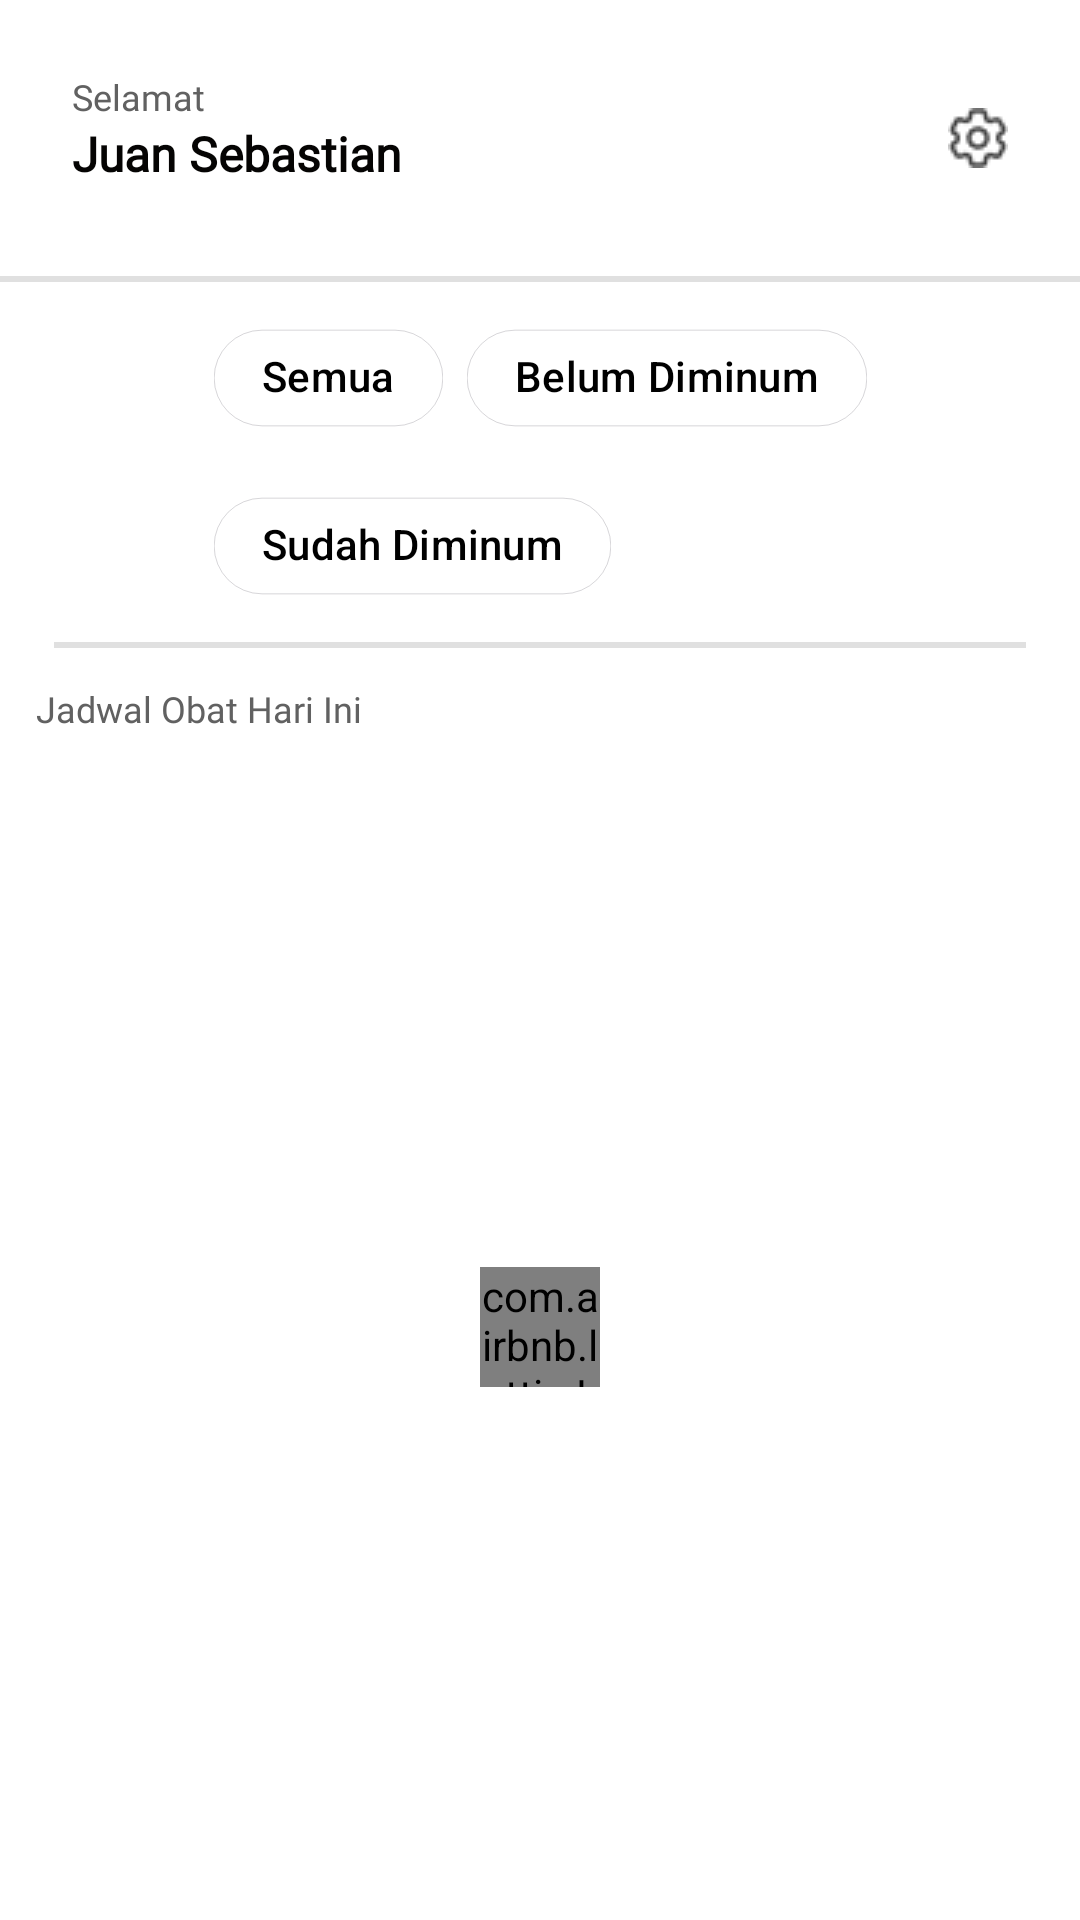

Icons on this 1080×1920 Android screen, each with the point to tap as [x,y]:
setting: [978,138]
